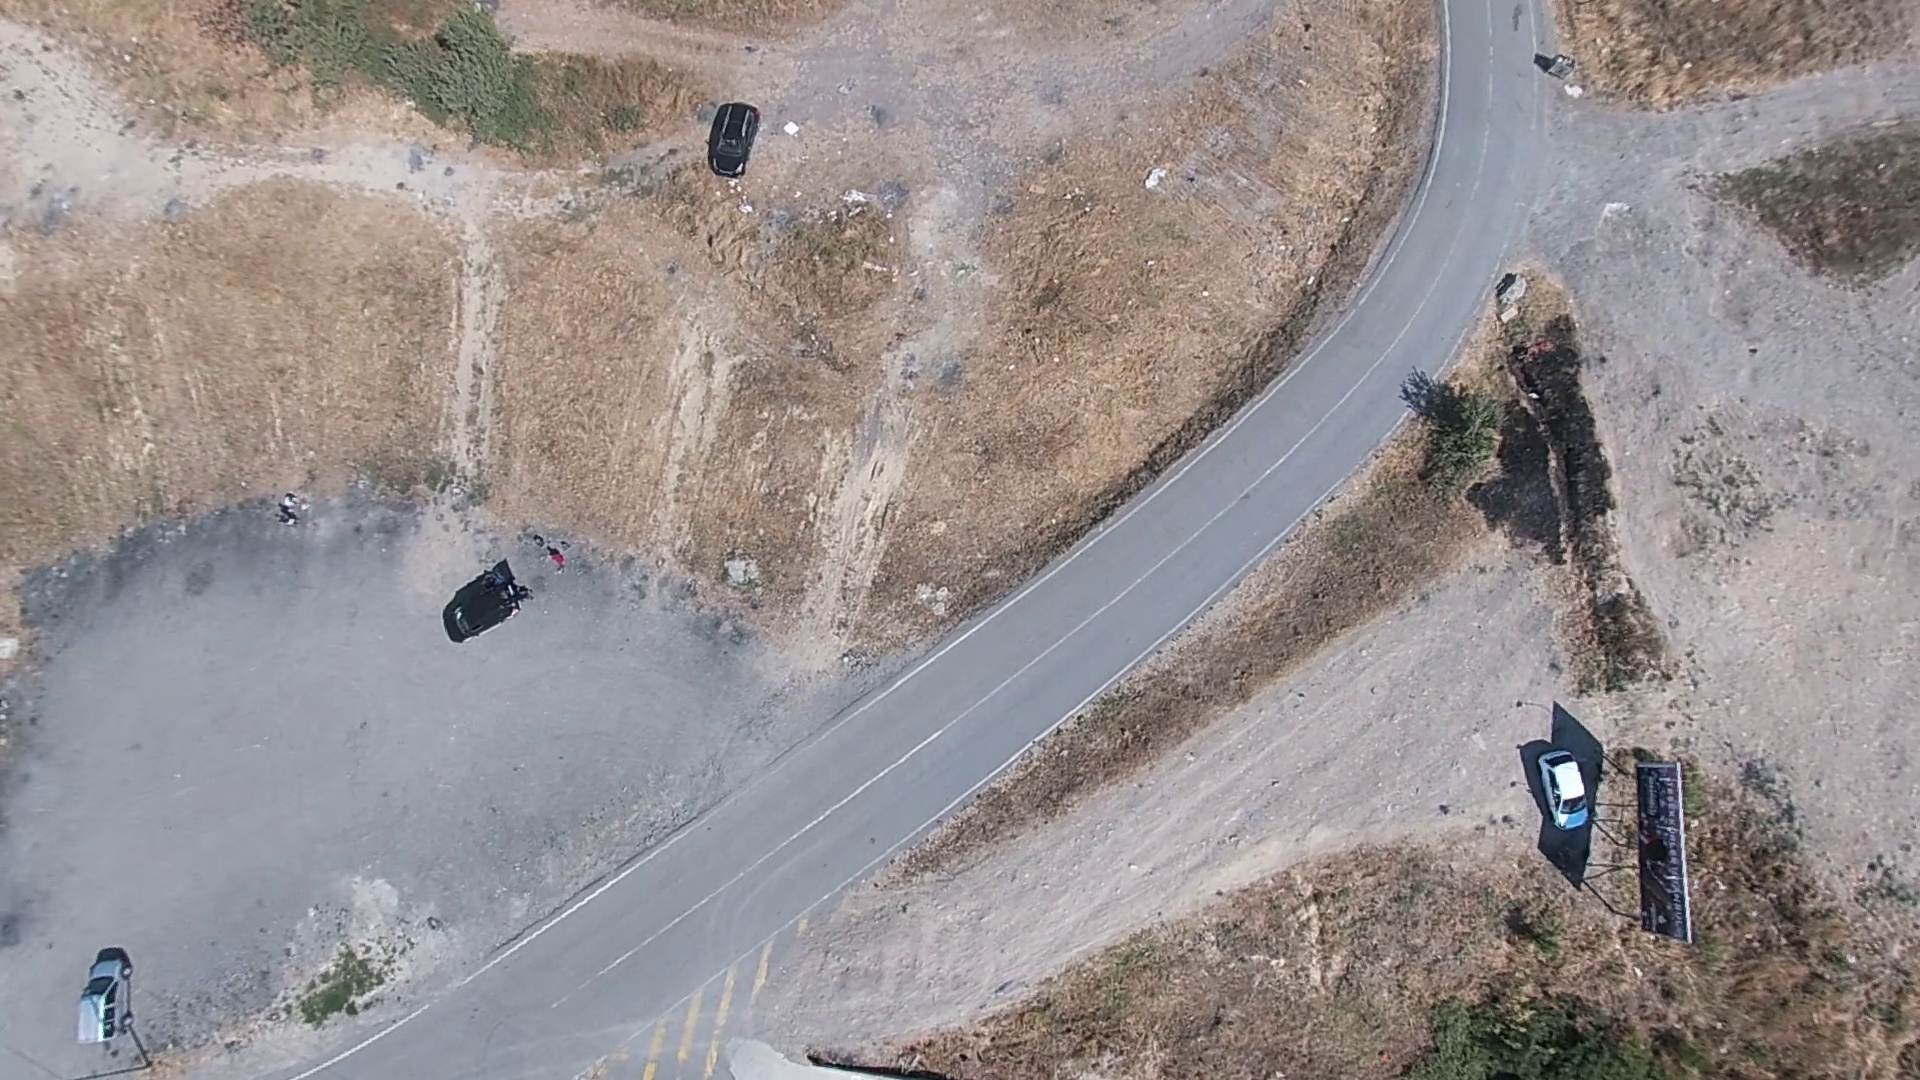araba: (433, 550, 537, 643), (70, 940, 147, 1058), (698, 100, 759, 188), (1537, 750, 1596, 840)
insan: (542, 545, 568, 578)
